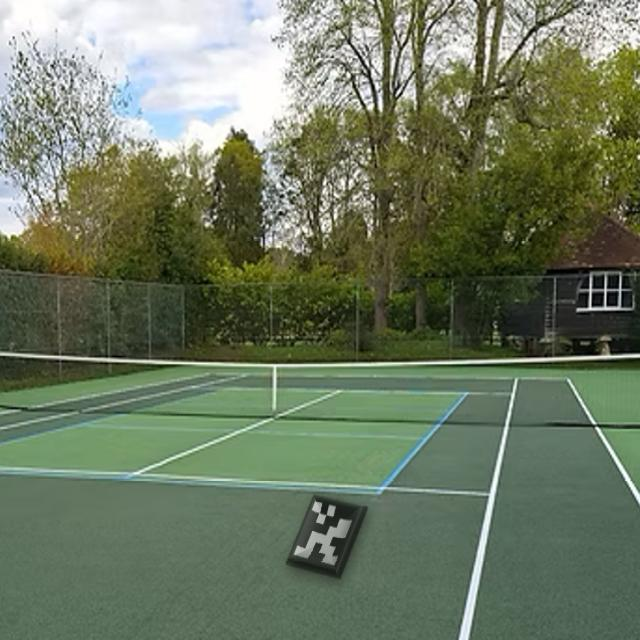marker: (279, 489, 380, 584)
